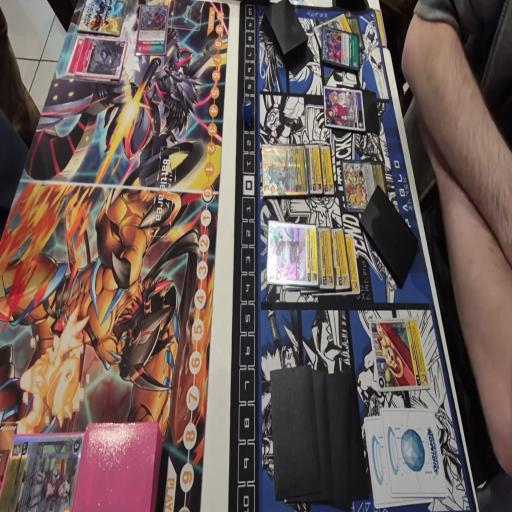card: (0, 431, 86, 512), (371, 319, 426, 397), (265, 226, 316, 288), (261, 141, 308, 199), (341, 159, 386, 216), (81, 36, 129, 88), (134, 3, 169, 60), (324, 86, 365, 124), (314, 16, 350, 56), (331, 224, 352, 292), (322, 31, 359, 64), (317, 224, 333, 296), (344, 229, 361, 293), (65, 34, 86, 82), (308, 140, 322, 200), (322, 141, 333, 199), (349, 16, 366, 52)
